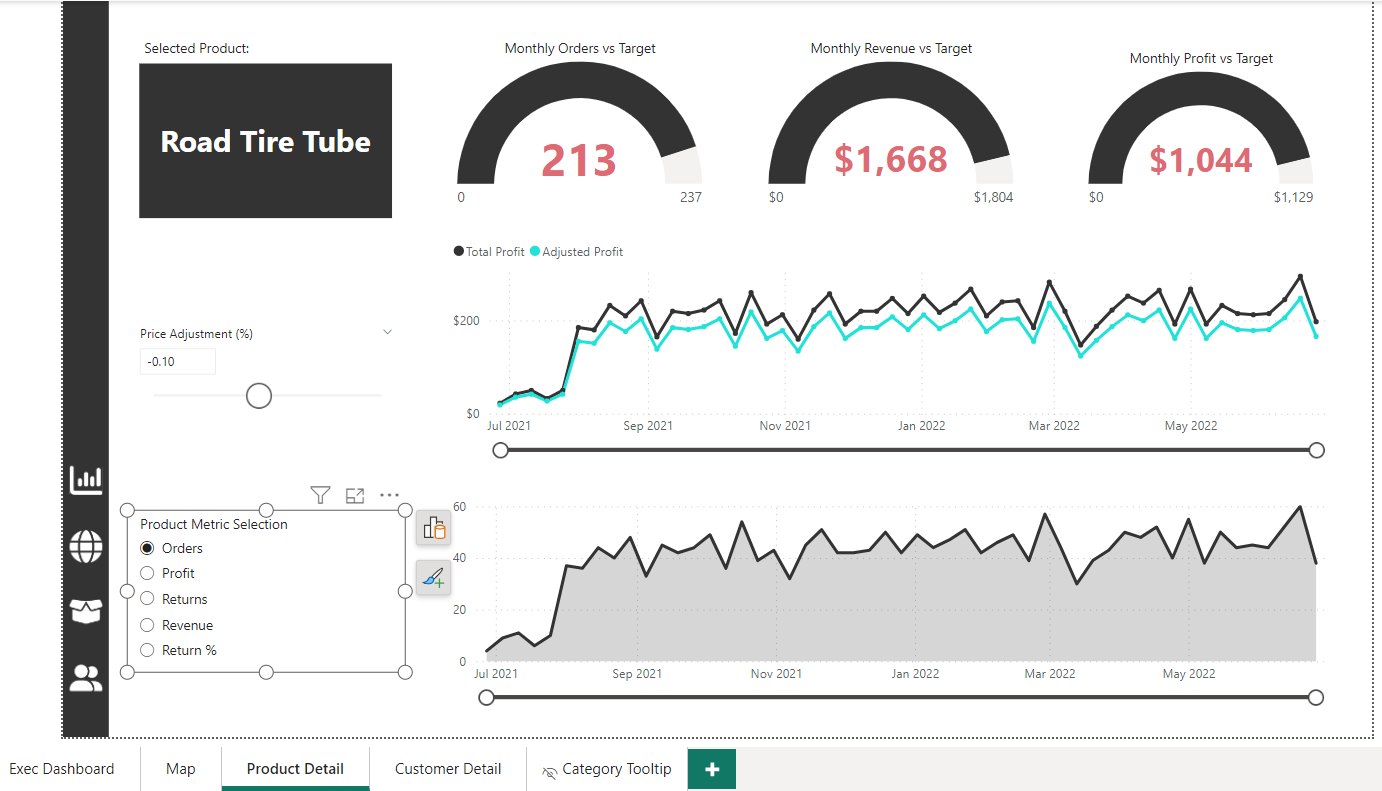

What the dashboard file says about the page in this screenshot:
{"tool":"powerbi","page":{"name":"Product Detail","canvas":[1280,720],"ordinal":2},"visuals":[{"type":"shape","box":[0,0,45,720],"z":0},{"type":"actionButton","box":[2.4,513,40.3,40.3],"z":0,"group":"g1"},{"type":"gauge","title":"Monthly Revenue vs Target","fields":{"Y":["Measure Table.Total Revenue"],"MaxValue":["Measure Table.Revenue Target"]},"box":[680.5,36.7,257.9,174.8],"z":1000},{"type":"actionButton","box":[2.4,448.6,40.3,40.3],"z":1000,"group":"g1"},{"type":"gauge","title":"Monthly Orders vs Target","fields":{"Y":["Measure Table.Total Orders"],"MaxValue":["Measure Table.Order Target"]},"box":[376.9,36.7,257.9,174.8],"z":2000},{"type":"actionButton","box":[2.4,577.4,40.3,40.3],"z":2000,"group":"g1"},{"type":"gauge","title":"Monthly Profit vs Target","fields":{"Y":["Measure Table.Total Profit"],"MaxValue":["Measure Table.Profit Target"]},"box":[984,46.5,257.9,165],"z":3000},{"type":"actionButton","box":[2.4,641.7,40.3,40.3],"z":3000,"group":"g1"},{"type":"lineChart","title":"Profit Trending","fields":{"Category":["Calendar Lookup.Date Hierarchy.Start of Year","Calendar Lookup.Date Hierarchy.Start of Month","Calendar Lookup.Date Hierarchy.Start of Week","Calendar Lookup.Date Hierarchy.Date"],"Y":["Measure Table.Total Profit","Measure Table.Adjusted Profit"]},"box":[376.5,224.9,880.1,224.9],"z":4000},{"type":"areaChart","title":"Returns Trending","fields":{"Y":["Measure Table.Total Orders"],"Category":["Calendar Lookup.Date Hierarchy.Start of Year","Calendar Lookup.Date Hierarchy.Start of Month","Calendar Lookup.Date Hierarchy.Start of Week","Calendar Lookup.Date Hierarchy.Date"]},"box":[376.5,480.4,880.1,211.5],"z":5000},{"type":"card","fields":{"Values":["Min(Product Lookup.ProductName)"]},"box":[74.6,61.1,246.9,151.6],"z":6000},{"type":"textbox","box":[74.6,31.8,133.2,30.6],"z":7000},{"type":"group","id":"g1","title":"Navigation Button","box":[2.4,448.6,41.6,233.5],"z":8000},{"type":"slicer","fields":{"Values":["Price Adjustment (%).Price Adjustment (%)"]},"box":[61.9,312.1,272.6,135.7],"z":9000},{"type":"slicer","fields":{"Values":["Product Metric Selection.Product Metric Selection"]},"box":[61.9,497.5,272.6,158.9],"z":10000}]}

Visuals, with their boxes on the page's 1280x720 design canvas (x1, y1, x2, y2). These are canvas units, not pixel positions in the 1382x791 screenshot, which may show the page scaled, cropped or inside an application window:
shape: (left=0, top=0, right=45, bottom=720)
actionButton: (left=2, top=513, right=43, bottom=553)
"Monthly Revenue vs Target" gauge: (left=680, top=37, right=938, bottom=212)
actionButton: (left=2, top=449, right=43, bottom=489)
"Monthly Orders vs Target" gauge: (left=377, top=37, right=635, bottom=212)
actionButton: (left=2, top=577, right=43, bottom=618)
"Monthly Profit vs Target" gauge: (left=984, top=46, right=1242, bottom=212)
actionButton: (left=2, top=642, right=43, bottom=682)
"Profit Trending" lineChart: (left=376, top=225, right=1257, bottom=450)
"Returns Trending" areaChart: (left=376, top=480, right=1257, bottom=692)
card - Min(Product Lookup.ProductName): (left=75, top=61, right=322, bottom=213)
textbox: (left=75, top=32, right=208, bottom=62)
"Navigation Button" group: (left=2, top=449, right=44, bottom=682)
slicer - Price Adjustment (%).Price Adjustment (%): (left=62, top=312, right=334, bottom=448)
slicer - Product Metric Selection.Product Metric Selection: (left=62, top=498, right=334, bottom=656)
